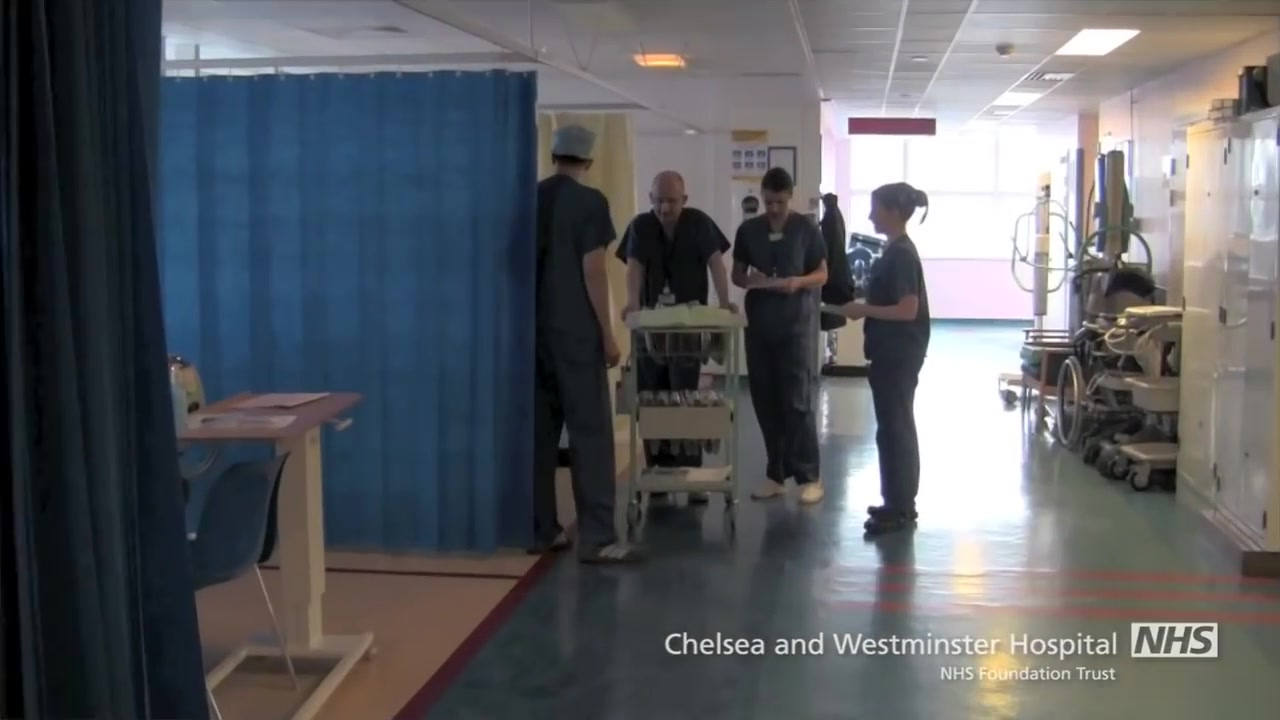cabinet: (1177, 100, 1280, 581)
chair: (185, 449, 302, 720), (1020, 328, 1077, 431)
curtain: (140, 68, 541, 555), (1, 1, 216, 720)
overbed_table: (176, 387, 378, 717)
staff: (538, 124, 645, 568), (611, 170, 739, 514), (730, 158, 832, 506), (842, 180, 932, 537)
utility_cart: (622, 303, 745, 543)
